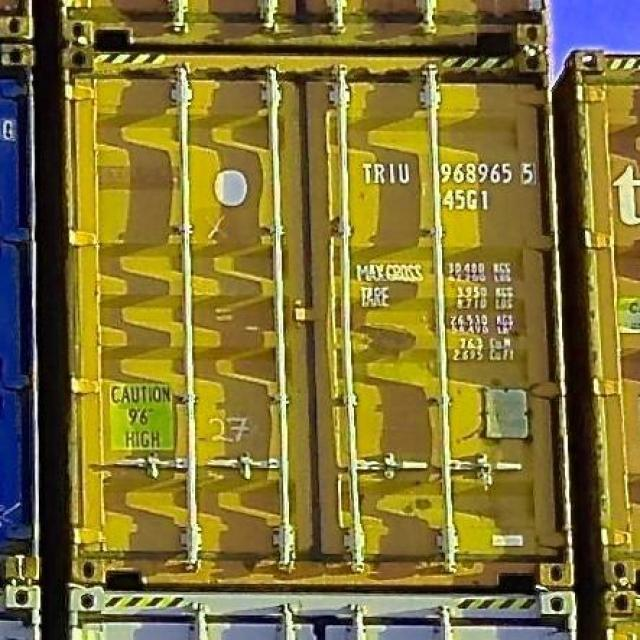ISO: (444, 185, 492, 212)
container_number: (361, 157, 538, 185)
